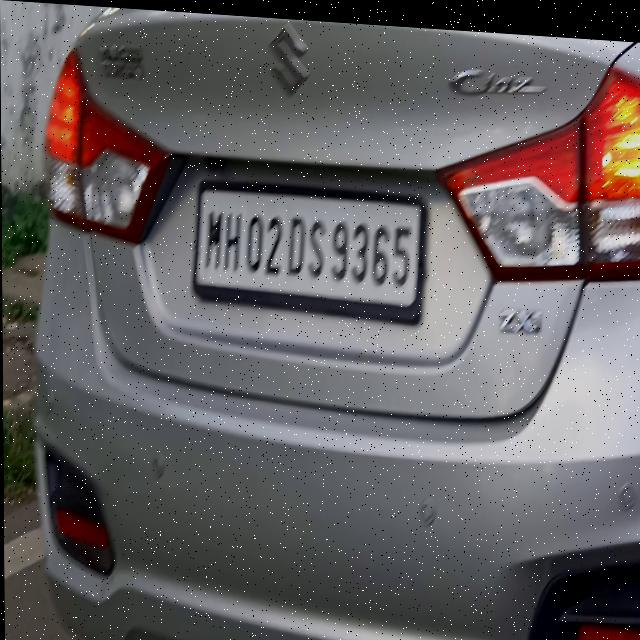plate: (192, 176, 426, 317)
